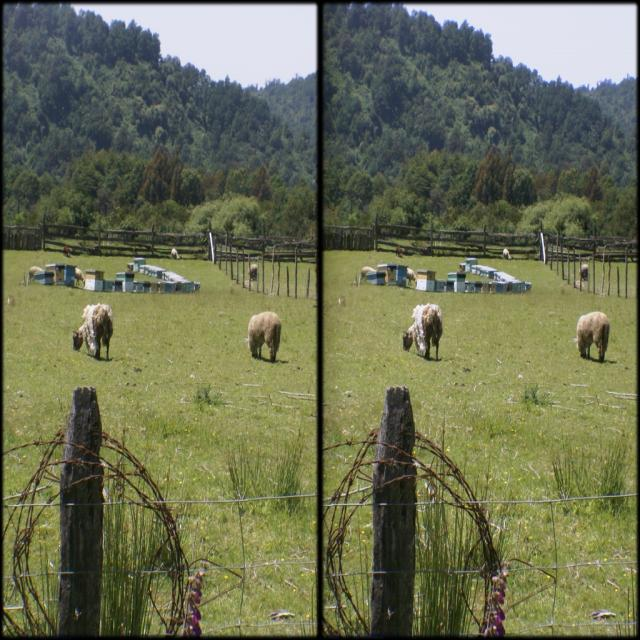Sheep: (71, 303, 113, 363), (402, 305, 443, 366), (575, 310, 609, 358), (250, 310, 280, 363)
